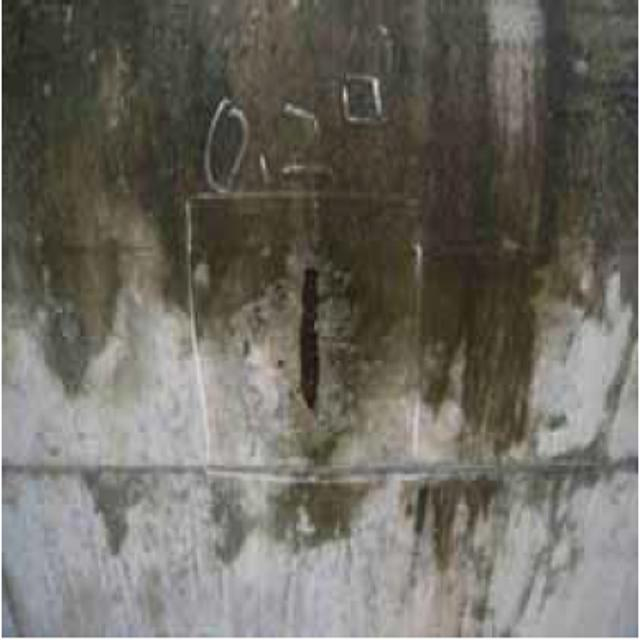spalling: (233, 237, 356, 440)
